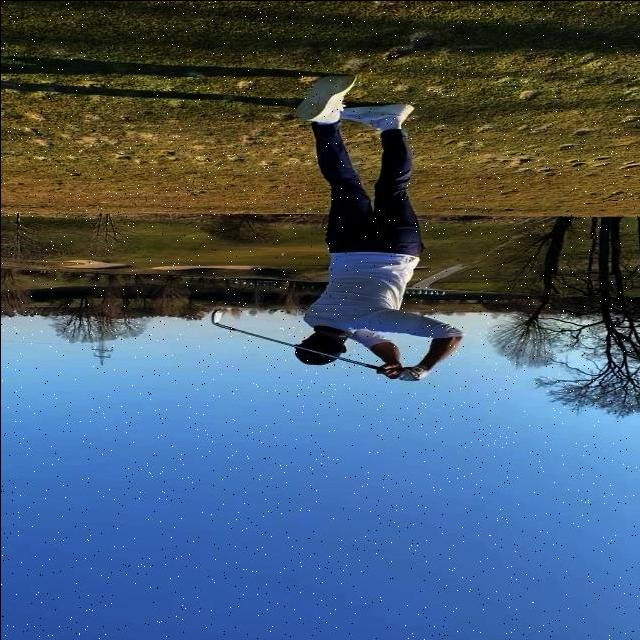golf club-handle: (211, 309, 381, 369)
golf club-head: (211, 309, 223, 322)
